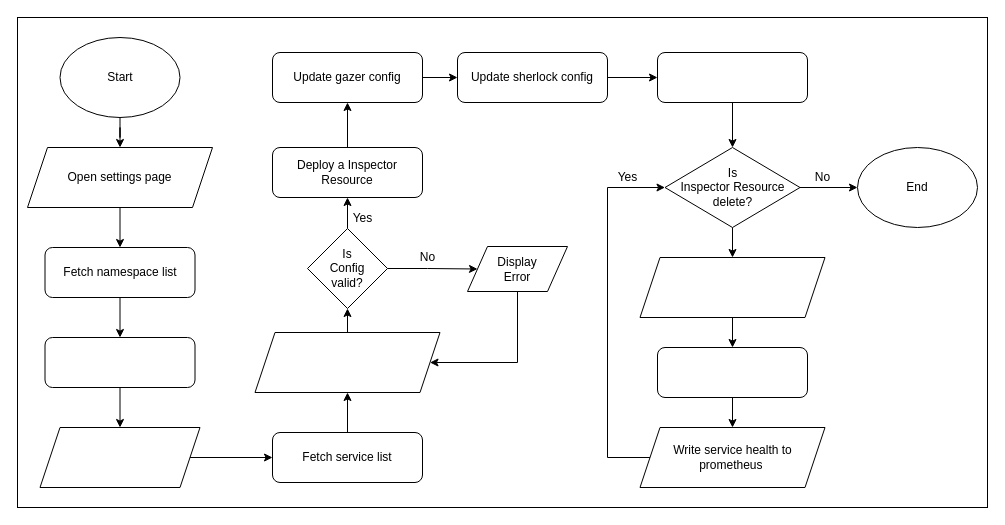
This 1005x525 diagram has some shape labels left out. Each missing label, with the centre of its shape:
"Calculate helath from metric data" belongs at (732,372).
"Deploy a new model" belongs at (732,77).
"Export service metrics to prometheus" belongs at (732,287).
"Fetch deployment list" belongs at (119,362).
"Prompt for monitor details" belongs at (347,362).
"Select a deployment" belongs at (119,457).
